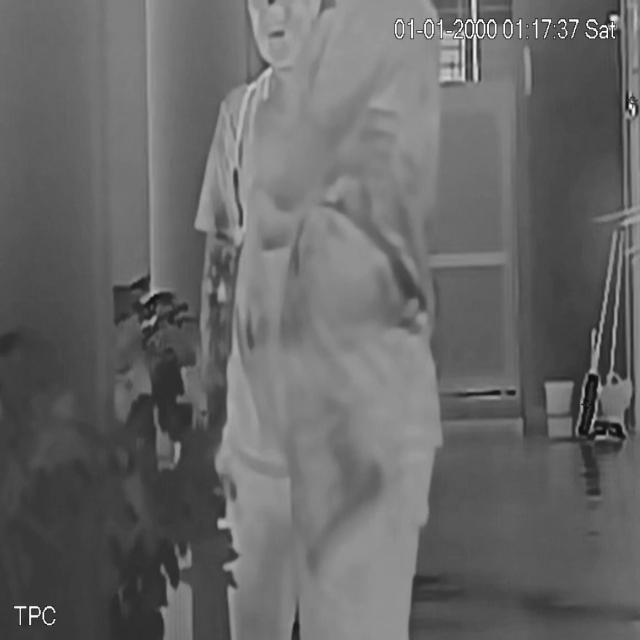Weapon: (294, 418, 392, 585)
